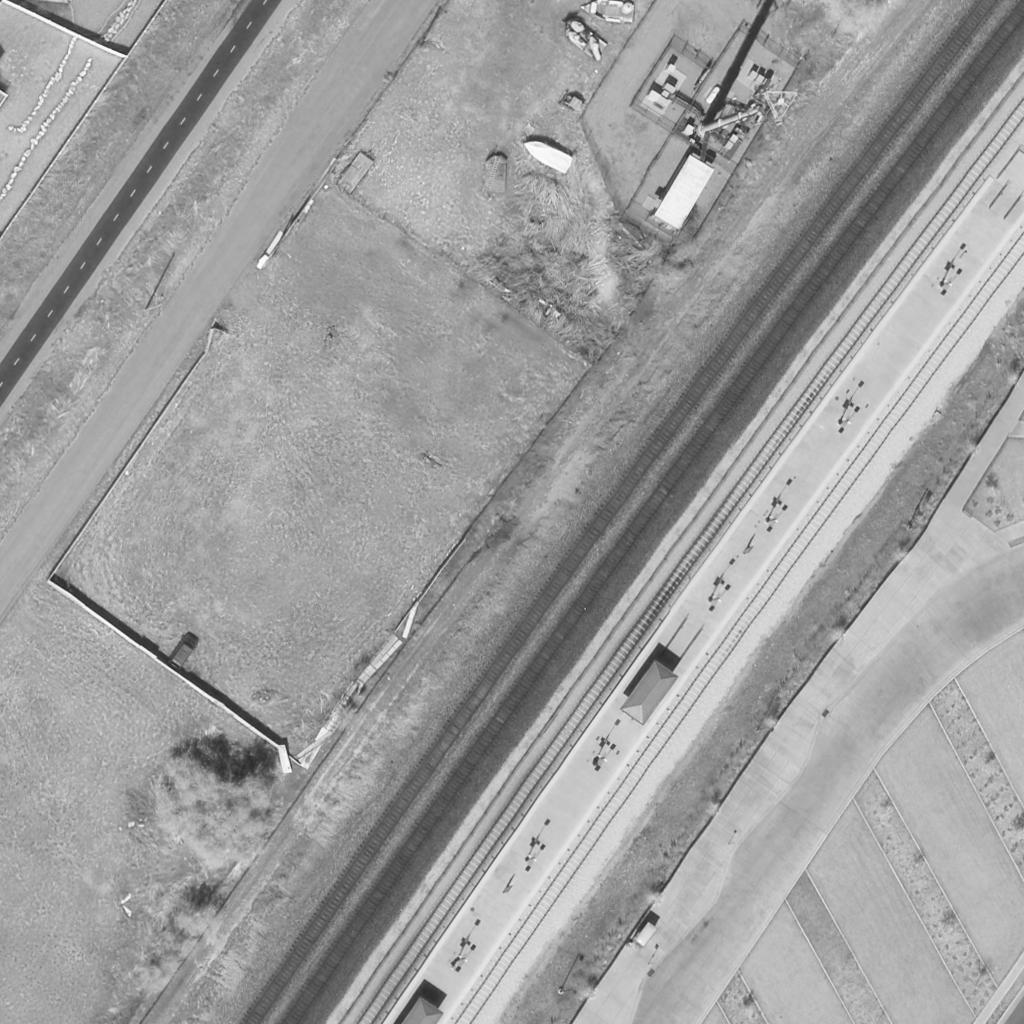vehicle: (519, 134, 575, 174), (579, 0, 637, 25)
